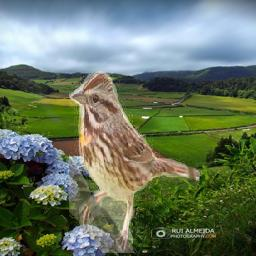Sparrow: (70, 69, 201, 253)
